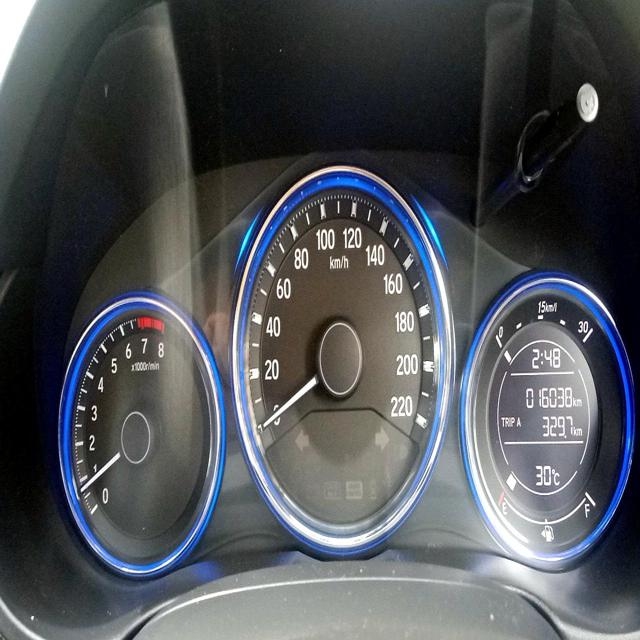odometer: (520, 381, 574, 410)
